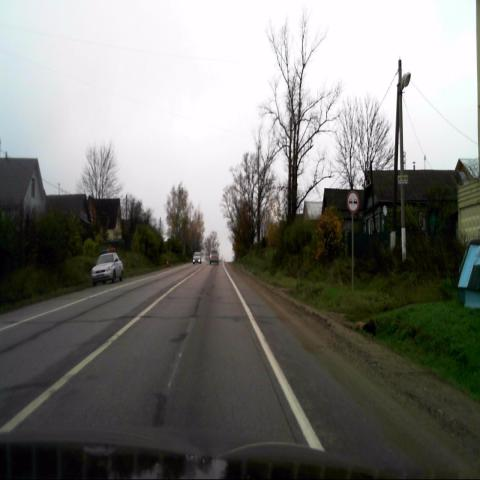3_20: (347, 191, 358, 212)
